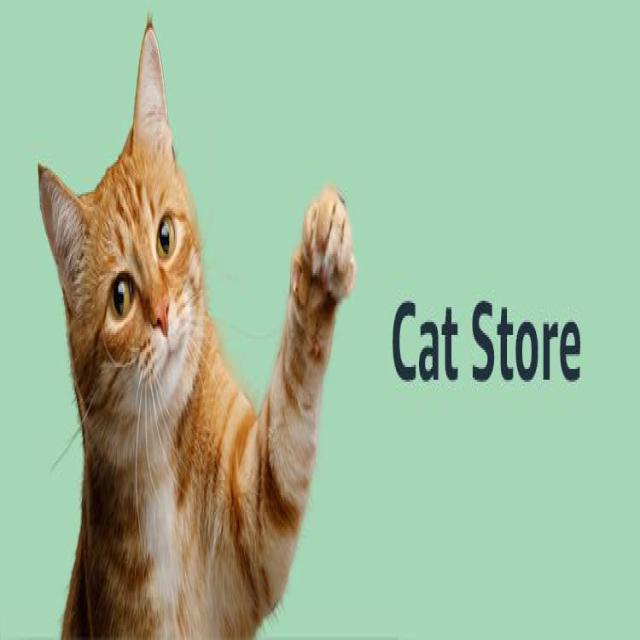Cat: (32, 7, 215, 446)
